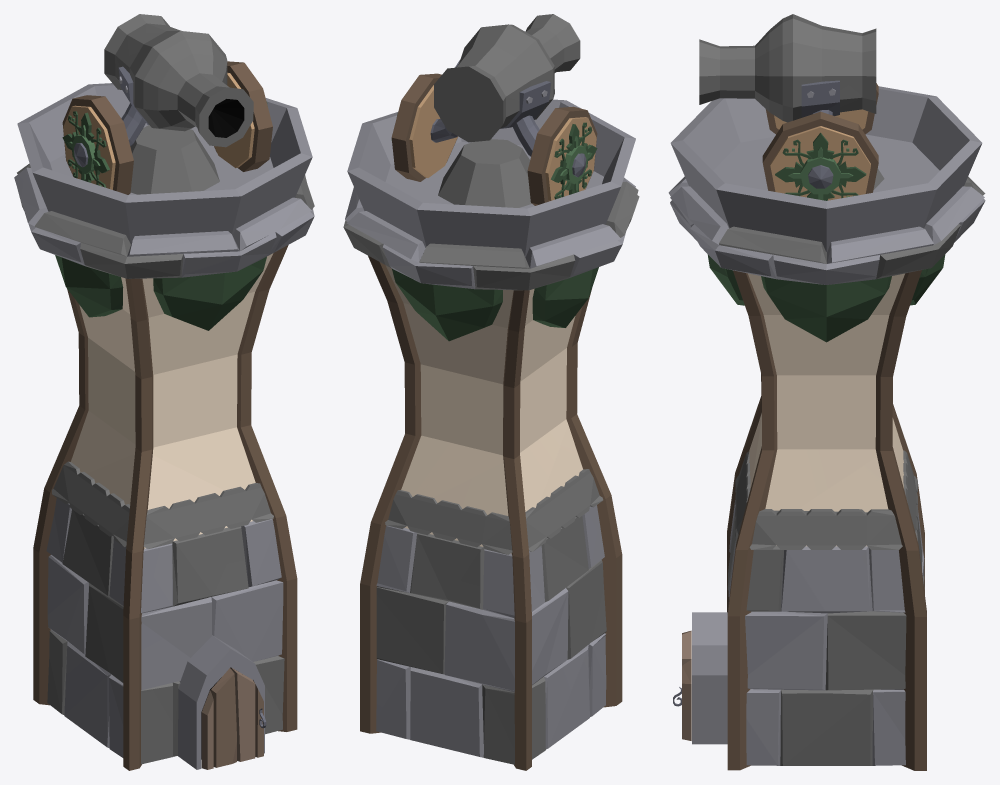
File: Cannon_Tower_LVL_1.gltf
3 views of the same model, side by side, from view 1: azimuth 30°, elevation 25°; view 2: azimuth 150°, elevation 25°; view 3: azimuth 270°, elevation 25° (orthographic). The views are drawn at different scales.
Parts seen in each view (by area): view 1: Cannon_Tower_LVL_1_Body, Cannon_Tower_LVL_1_Head; view 2: Cannon_Tower_LVL_1_Body, Cannon_Tower_LVL_1_Head; view 3: Cannon_Tower_LVL_1_Body, Cannon_Tower_LVL_1_Head.
Boxes of the visible parts, x1=… form: Cannon_Tower_LVL_1_Body: x1=18, y1=191, x2=314, y2=770; Cannon_Tower_LVL_1_Head: x1=14, y1=14, x2=314, y2=256; Cannon_Tower_LVL_1_Body: x1=343, y1=195, x2=639, y2=770; Cannon_Tower_LVL_1_Head: x1=344, y1=14, x2=638, y2=272; Cannon_Tower_LVL_1_Body: x1=670, y1=200, x2=984, y2=770; Cannon_Tower_LVL_1_Head: x1=668, y1=14, x2=985, y2=263.
Size of the model in its own units: 3.02 by 7.44 by 3.01.
Materials: 2 (2 with a texture image).
